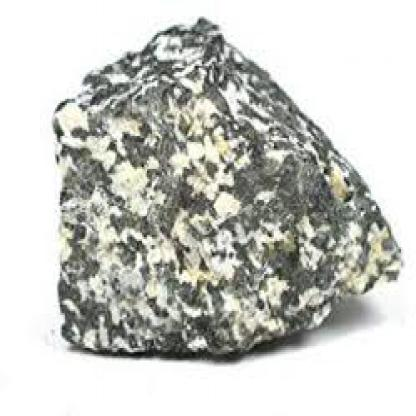Igneous_Diorite: (45, 11, 413, 362)
